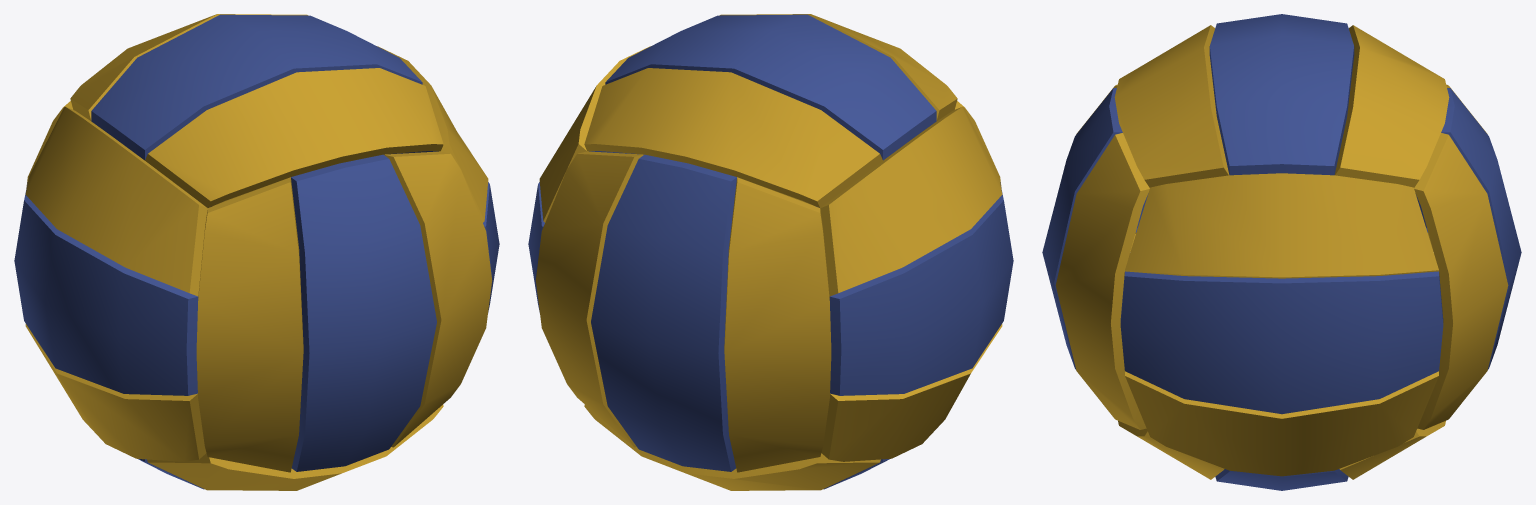
File: Volleyball.fbx
The picture shows the model from 3 angles, left to right: view 1: azimuth 30°, elevation 25°; view 2: azimuth 150°, elevation 25°; view 3: azimuth 270°, elevation 25°; orthographic projection. The views are drawn at different scales.
Parts seen in each view (by area): view 1: Volleyball; view 2: Volleyball; view 3: Volleyball.
Boxes of the visible parts, box(x1,y1,x2,y2) form: Volleyball: box(14, 14, 499, 490); Volleyball: box(528, 14, 1013, 490); Volleyball: box(1042, 14, 1521, 490).
Size of the model in its own units: 35.19 by 35.19 by 35.19.
Materials: 1 (1 with a texture image).
